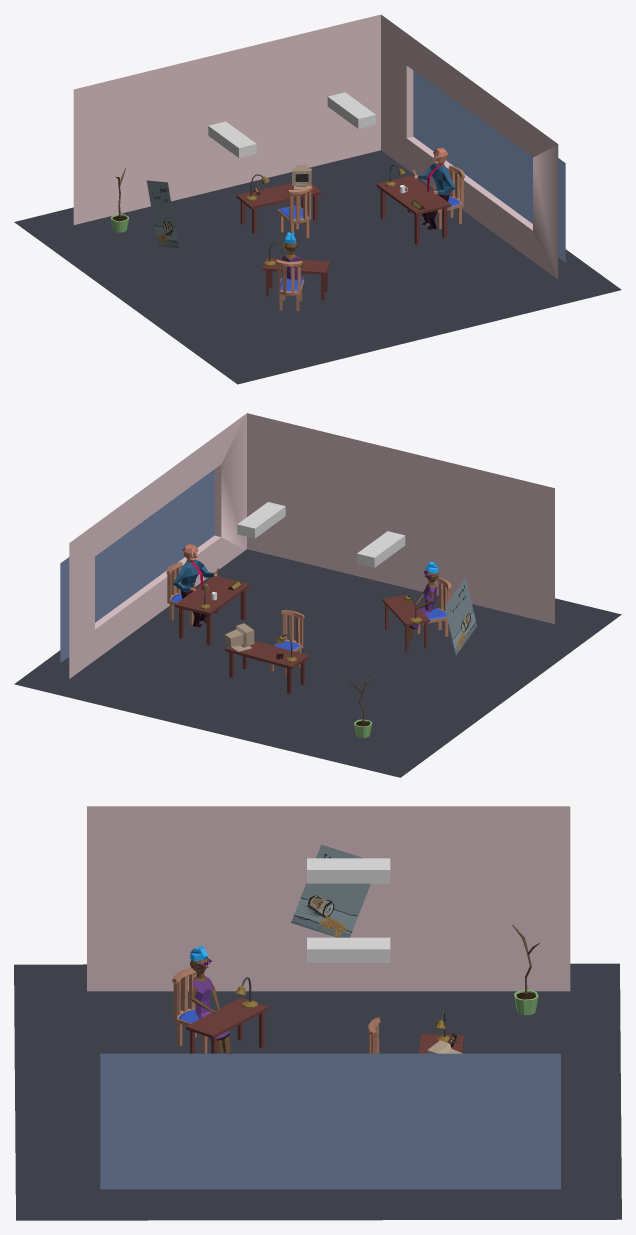
Rendered from Office.gltf.
The picture shows the model from 3 angles, top to bottom: view 1: azimuth 30°, elevation 25°; view 2: azimuth 150°, elevation 25°; view 3: azimuth 270°, elevation 25°; orthographic projection. The views are drawn at different scales.
Visible parts, largest first — view 1: Floor, Walls_01, Sky, Desk, Poster, Desk.001, Boss, Chair.003, CeilingFixture_01, CeilingFixture_02, Chair.002, Desk.002 (+2 smaller); view 2: Floor, Walls_02, Walls_01, Sky, Desk, Desk.001, Poster, Boss, CeilingFixture_01, CeilingFixture_02, Desk.002, Chair.003 (+4 smaller); view 3: Walls_02, Floor, Sky, Poster, CeilingFixture_01, CeilingFixture_02, Desk.002, Secretary, Chair.002, Cylinder.
Part boxes in pixels (x1,y1,x2,y2): Floor: (14,150,621,384); Walls_01: (73,14,558,279); Sky: (413,70,565,262); Desk: (376,175,451,244); Poster: (146,180,178,247); Desk.001: (236,183,321,233); Boss: (413,147,455,229); Chair.003: (277,185,312,237); CeilingFixture_01: (208,121,256,157); CeilingFixture_02: (327,92,375,128); Chair.002: (276,259,304,311); Desk.002: (262,257,330,300); Floor: (14,549,621,777); Walls_02: (247,413,554,624); Walls_01: (69,413,246,678); Sky: (60,469,214,662); Desk: (175,576,249,644); Desk.001: (225,641,308,693); Poster: (445,578,476,655); Boss: (173,544,218,627); CeilingFixture_01: (357,531,405,567); CeilingFixture_02: (237,502,285,538); Desk.002: (382,595,429,651); Chair.003: (270,610,304,675); Walls_02: (87,806,570,991); Floor: (14,963,621,1220); Sky: (100,1053,560,1189); Poster: (291,844,370,937); CeilingFixture_01: (307,858,390,883); CeilingFixture_02: (307,937,390,962); Desk.002: (186,997,268,1053); Secretary: (189,946,231,1053); Chair.002: (172,968,207,1053); Cylinder: (512,924,539,1015).
Size of the model in its own units: 26.29 by 9.42 by 26.29.
Materials: 38 (2 with a texture image).
